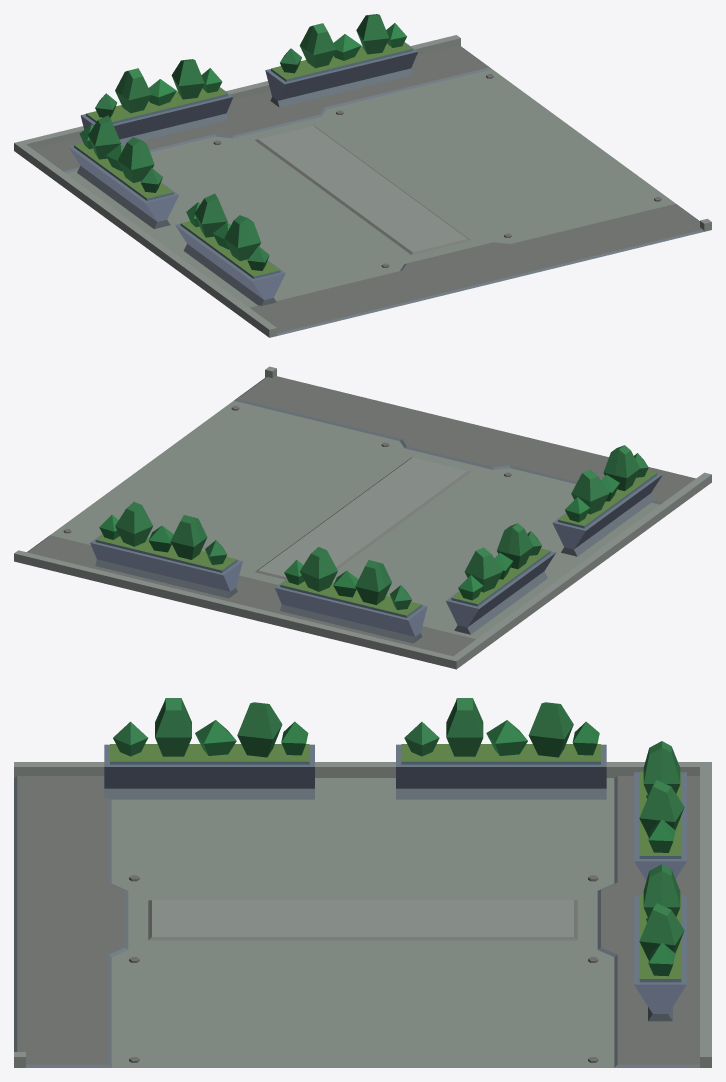
Rendered from Corner_B.gltf.
3 renders of one model, top to bottom at view 1: azimuth 30°, elevation 25°; view 2: azimuth 150°, elevation 25°; view 3: azimuth 270°, elevation 25°, orthographic. The views are drawn at different scales.
Parts seen in each view (by area): view 1: Scifi_Panel_01 Plaza014_group4.030; view 2: Scifi_Panel_01 Plaza014_group4.030; view 3: Scifi_Panel_01 Plaza014_group4.030.
Boxes of the visible parts, bbox=[...] form: Scifi_Panel_01 Plaza014_group4.030: bbox=[14, 14, 711, 337]; Scifi_Panel_01 Plaza014_group4.030: bbox=[14, 366, 711, 669]; Scifi_Panel_01 Plaza014_group4.030: bbox=[14, 698, 711, 1067].
Size of what is drawn, in the model's own units: 10 by 1.52 by 10.
1 material, 1 textured.
